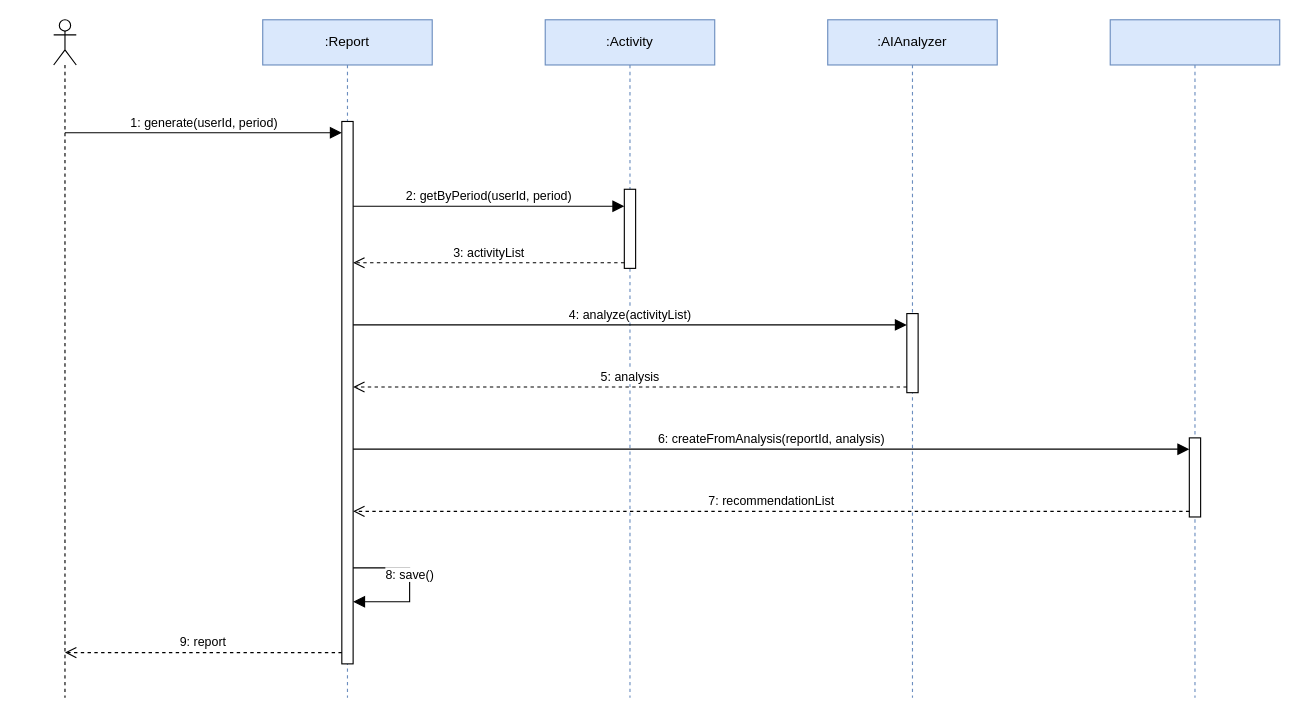
The diagram is 1300 pixels wide and 718 high, and some of its shapes have lost their labels. The shapes that lost their labels are listed below. From the top down, each one's box as (x1, y1, x2, y2) in pixels, then its label:
(53, 19, 76, 698): Пайдаланушы
(1109, 19, 1280, 698): :Recommendation
